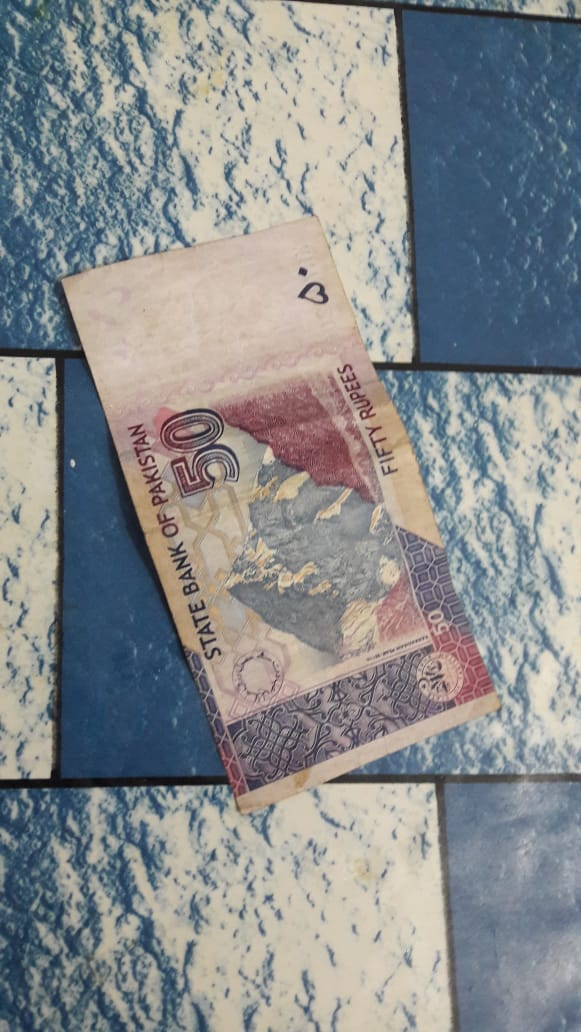50 rupee: (42, 217, 497, 850)
